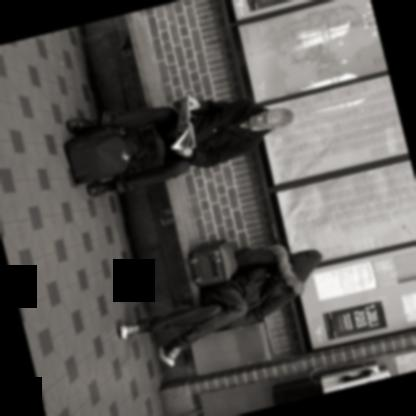backpack: (64, 128, 145, 190)
handbag: (64, 127, 135, 186)
suitcase: (189, 240, 237, 287)
